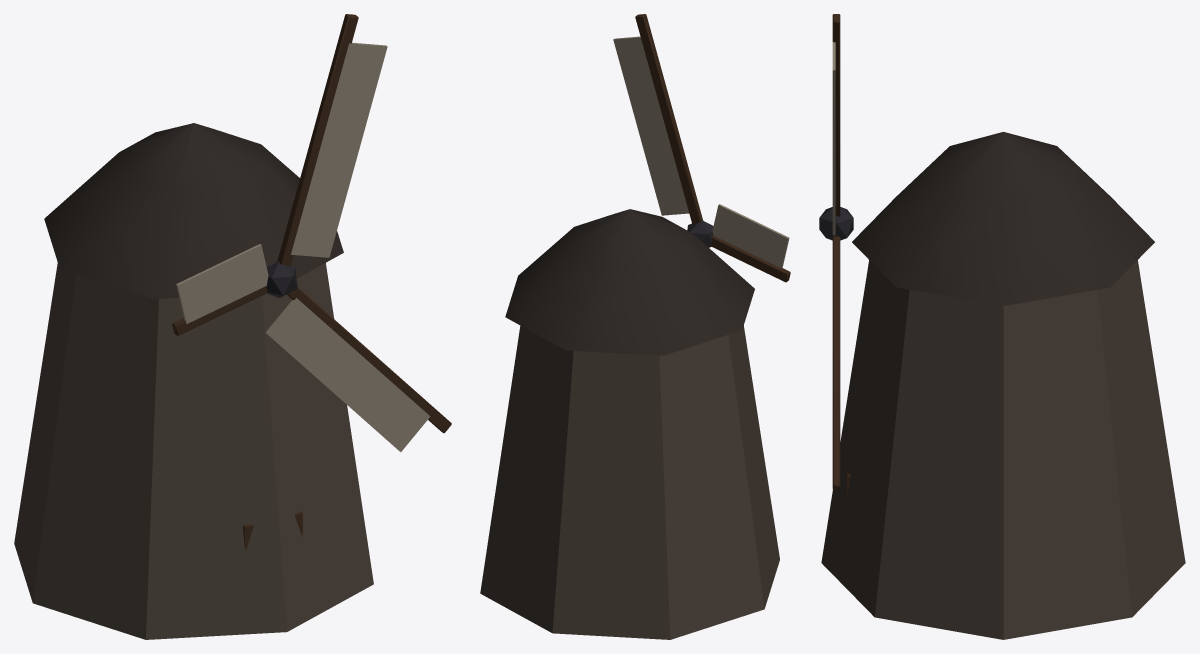
File: dead_mill.glb
3 renders of one model, left to right at view 1: azimuth 30°, elevation 25°; view 2: azimuth 150°, elevation 25°; view 3: azimuth 270°, elevation 25°, orthographic. The views are drawn at different scales.
Visible parts, largest first — view 1: dead_mill; view 2: dead_mill; view 3: dead_mill.
Boxes of the visible parts, box(x1,y1,x2,y2) form: dead_mill: box(14, 14, 451, 639); dead_mill: box(480, 14, 790, 639); dead_mill: box(819, 14, 1185, 639).
Size of the model in its own units: 7.42 by 12.69 by 7.24.
